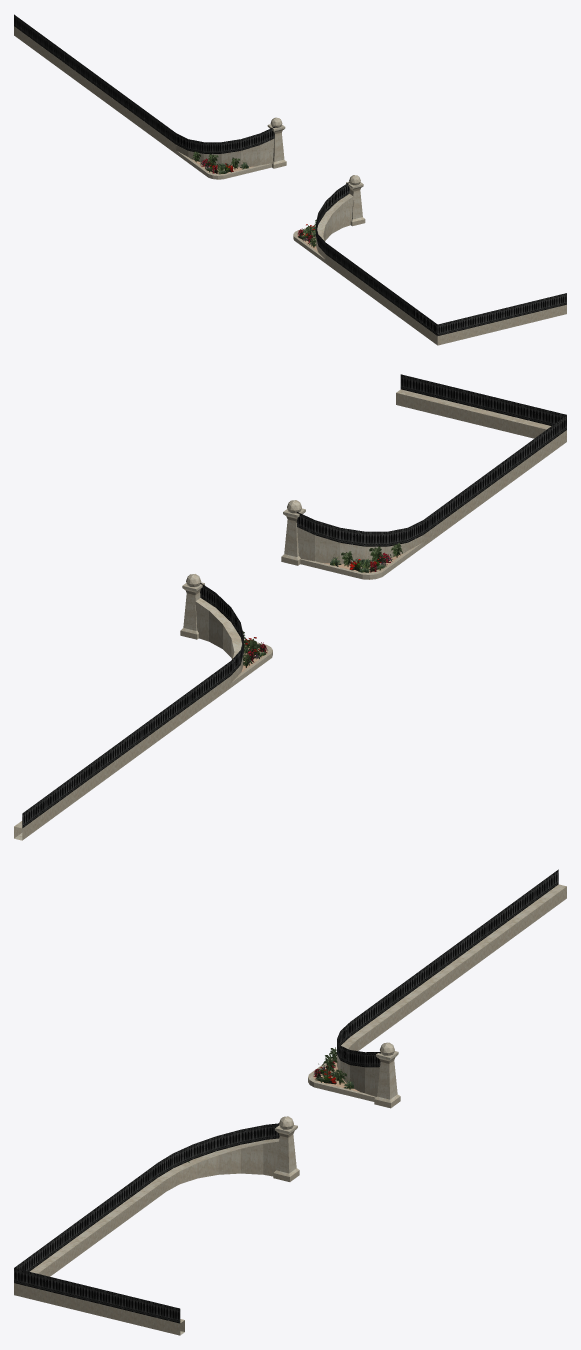
Rendered from glfcrsgate1_vgs.obj.
3 renders of one model, top to bottom at view 1: azimuth 30°, elevation 25°; view 2: azimuth 150°, elevation 25°; view 3: azimuth 330°, elevation 25°, orthographic. The views are drawn at different scales.
Parts seen in each view (by area): view 1: glfcrsgate1_vgs; view 2: glfcrsgate1_vgs; view 3: glfcrsgate1_vgs.
Part boxes in pixels (<box>): glfcrsgate1_vgs: <box>14,14,566,345</box>; glfcrsgate1_vgs: <box>14,374,566,840</box>; glfcrsgate1_vgs: <box>14,869,566,1335</box>.
Bounding box in the file's own units: 20.07 × 6.89 × 114.
9 materials, 9 textured.
